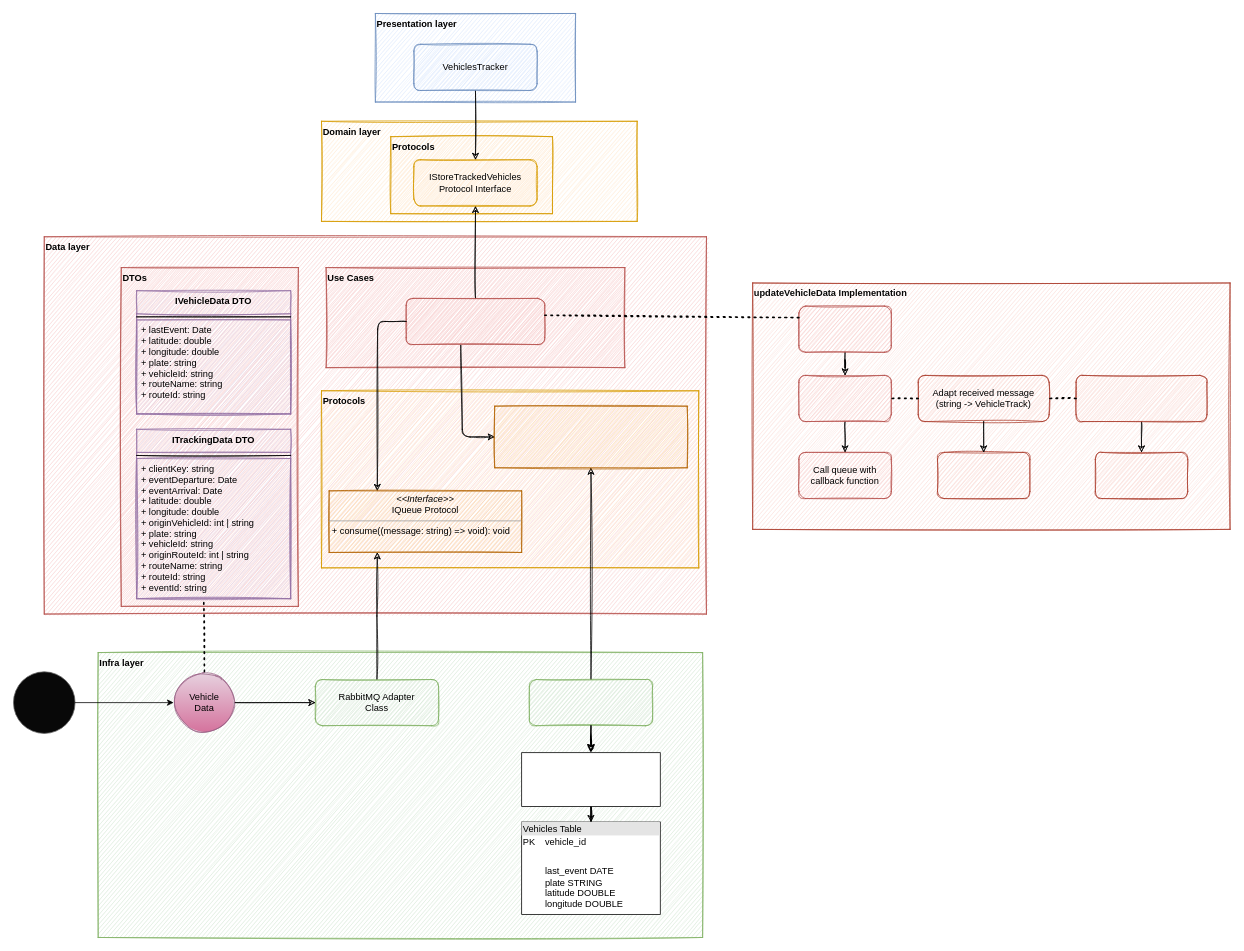
Image size: 1244x951. Some labels were removed from this diagram. Here are the shapes that lost their labels. From the top down, the centre of each, then its label:
At pixel 475 321: "DbStoreTrackedVehicles".
At pixel 844 328: "Inject store protocol and queue protocol".
At pixel 844 398: "Create callback function".
At pixel 1141 398: "Checks if received message (string) is a valid VehicleTrack".
At pixel 590 436: "<<Interface>> ITrackingStore Protocol + updateVehicleData(IVehicleData): boolean".
At pixel 983 475: "Update vehicle data on vehicle store".
At pixel 1141 475: "Returns a VehicleTrack".
At pixel 44 702: "GPS Simulator".
At pixel 591 702: "MongoDB VehicleStore Adapter Class".
At pixel 590 779: "Routes Table PK route_id FK Vehicles route_name STRING".
